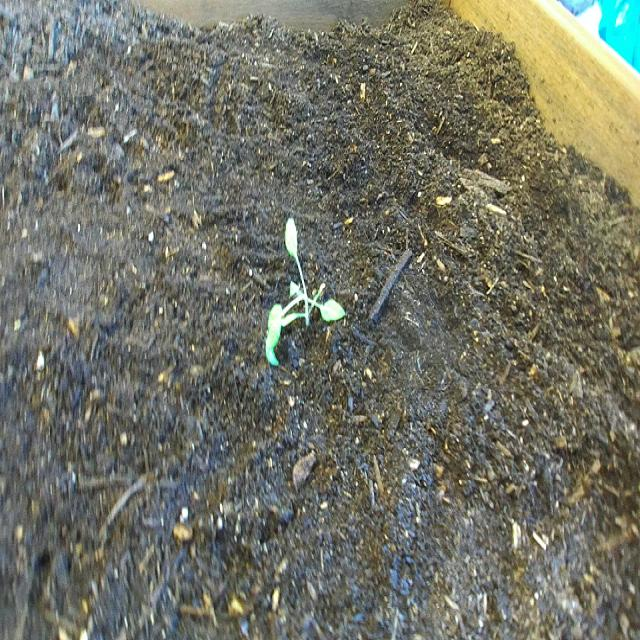Healthy: (257, 206, 353, 380)
